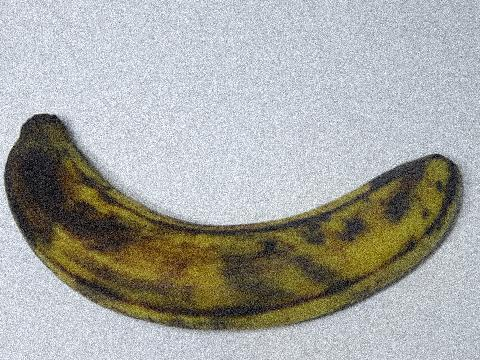overripe: (0, 104, 479, 343)
